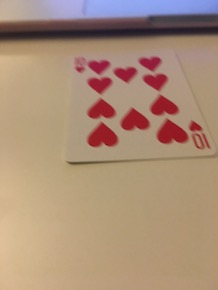TenOfHearts: (57, 47, 215, 167)
